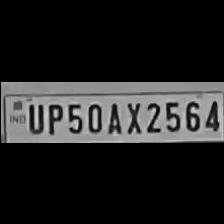0: (84, 100, 104, 132)
2: (142, 97, 160, 132)
4: (202, 96, 220, 130)
5: (162, 96, 180, 132), (64, 100, 82, 134)
6: (182, 97, 200, 131)
A: (104, 99, 124, 134)
P: (44, 100, 62, 134)
U: (24, 100, 44, 132)
X: (122, 99, 142, 134)
